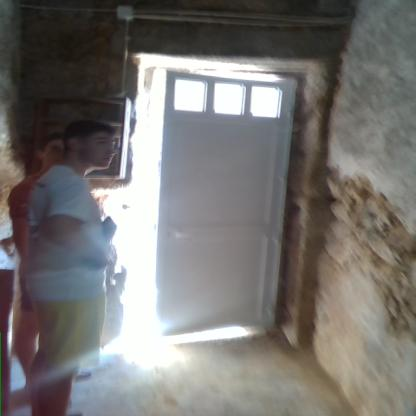semi: (93, 43, 324, 365)
